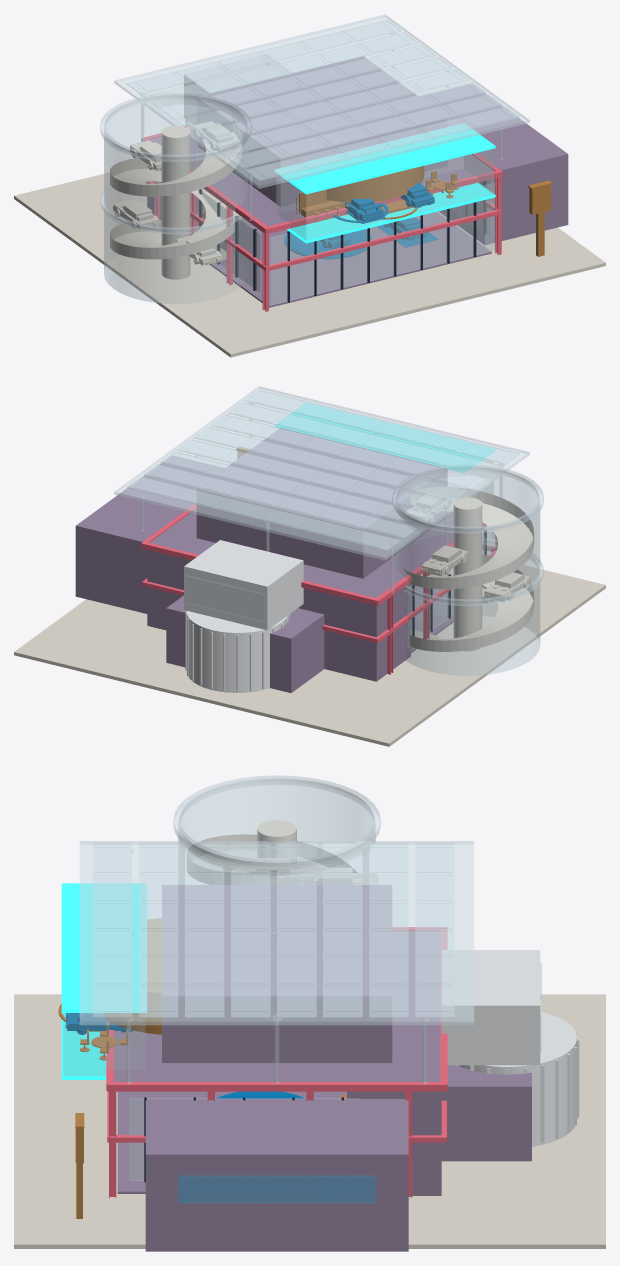
File: hq_14_marketing_l6.glb
3 renders of one model, top to bottom at view 1: azimuth 30°, elevation 25°; view 2: azimuth 150°, elevation 25°; view 3: azimuth 270°, elevation 25°, orthographic. The views are drawn at different scales.
Visible parts, largest first — view 1: GEO_Marketing_Photovoltaic_Solar_Canopy, GEO_Marketing_Glass_Rotunda_Cylinder, GEO_Marketing_Foundation_Plinth, GEO_Marketing_Auditorium_Shell, GEO_Marketing_Spiral_Display_Ramp, GEO_Marketing_Showroom_Brick_Halls, GEO_Marketing_Showroom_Glass_Curtain, GEO_Marketing_Heritage_Vault_Brick, GEO_Marketing_VIP_Delivery_Cube, GEO_Marketing_LED_Bands, GEO_Marketing_Structural_Columns, GEO_Marketing_Configurator_Studio_Shell (+7 smaller); view 2: GEO_Marketing_Photovoltaic_Solar_Canopy, GEO_Marketing_Glass_Rotunda_Cylinder, GEO_Marketing_Foundation_Plinth, GEO_Marketing_Auditorium_Shell, GEO_Marketing_Showroom_Brick_Halls, GEO_Marketing_Spiral_Display_Ramp, GEO_Marketing_Heritage_Vault_Brick, GEO_Marketing_Configurator_Studio_Shell, GEO_Marketing_LED_Bands, GEO_Marketing_HoloCinema_Pod, GEO_Marketing_Structural_Columns, GEO_Marketing_Configurator_Curtain_Glass (+1 smaller); view 3: GEO_Marketing_Photovoltaic_Solar_Canopy, GEO_Marketing_Foundation_Plinth, GEO_Marketing_Auditorium_Shell, GEO_Marketing_Heritage_Vault_Brick, GEO_Marketing_Showroom_Brick_Halls, GEO_Marketing_Glass_Rotunda_Cylinder, GEO_Marketing_LED_Bands, GEO_Marketing_Configurator_Studio_Shell, GEO_Marketing_Spiral_Display_Ramp, GEO_Marketing_Structural_Columns, GEO_Marketing_HoloCinema_Pod, GEO_Marketing_Vault_Ribbon_Glass (+6 smaller).
Boxes of the visible parts, x1=… form: GEO_Marketing_Photovoltaic_Solar_Canopy: x1=114, y1=14, x2=529, y2=220; GEO_Marketing_Glass_Rotunda_Cylinder: x1=100, y1=93, x2=251, y2=304; GEO_Marketing_Foundation_Plinth: x1=14, y1=172, x2=605, y2=357; GEO_Marketing_Auditorium_Shell: x1=197, y1=56, x2=447, y2=206; GEO_Marketing_Spiral_Display_Ramp: x1=110, y1=121, x2=241, y2=279; GEO_Marketing_Showroom_Brick_Halls: x1=147, y1=126, x2=493, y2=307; GEO_Marketing_Showroom_Glass_Curtain: x1=196, y1=179, x2=495, y2=305; GEO_Marketing_Heritage_Vault_Brick: x1=419, y1=84, x2=568, y2=244; GEO_Marketing_VIP_Delivery_Cube: x1=276, y1=149, x2=493, y2=240; GEO_Marketing_LED_Bands: x1=275, y1=123, x2=495, y2=243; GEO_Marketing_Structural_Columns: x1=141, y1=126, x2=502, y2=311; GEO_Marketing_Configurator_Studio_Shell: x1=184, y1=54, x2=292, y2=124; GEO_Marketing_Photovoltaic_Solar_Canopy: x1=114, y1=386, x2=529, y2=592; GEO_Marketing_Glass_Rotunda_Cylinder: x1=392, y1=464, x2=543, y2=675; GEO_Marketing_Foundation_Plinth: x1=14, y1=565, x2=605, y2=746; GEO_Marketing_Auditorium_Shell: x1=196, y1=428, x2=447, y2=578; GEO_Marketing_Showroom_Brick_Halls: x1=147, y1=508, x2=453, y2=692; GEO_Marketing_Spiral_Display_Ramp: x1=402, y1=487, x2=534, y2=651; GEO_Marketing_Heritage_Vault_Brick: x1=75, y1=455, x2=224, y2=613; GEO_Marketing_Configurator_Studio_Shell: x1=184, y1=540, x2=303, y2=630; GEO_Marketing_LED_Bands: x1=274, y1=403, x2=495, y2=486; GEO_Marketing_HoloCinema_Pod: x1=185, y1=611, x2=290, y2=692; GEO_Marketing_Structural_Columns: x1=141, y1=503, x2=497, y2=674; GEO_Marketing_Configurator_Curtain_Glass: x1=185, y1=575, x2=265, y2=621; GEO_Marketing_Photovoltaic_Solar_Canopy: x1=79, y1=841, x2=474, y2=1083; GEO_Marketing_Foundation_Plinth: x1=14, y1=994, x2=605, y2=1248; GEO_Marketing_Auditorium_Shell: x1=162, y1=885, x2=392, y2=1062; GEO_Marketing_Heritage_Vault_Brick: x1=145, y1=1099, x2=408, y2=1251; GEO_Marketing_Showroom_Brick_Halls: x1=114, y1=931, x2=531, y2=1195; GEO_Marketing_Glass_Rotunda_Cylinder: x1=173, y1=775, x2=380, y2=884; GEO_Marketing_LED_Bands: x1=61, y1=883, x2=146, y2=1079; GEO_Marketing_Configurator_Studio_Shell: x1=441, y1=950, x2=540, y2=1065; GEO_Marketing_Spiral_Display_Ramp: x1=187, y1=820, x2=377, y2=884; GEO_Marketing_Structural_Columns: x1=106, y1=927, x2=447, y2=1198; GEO_Marketing_HoloCinema_Pod: x1=456, y1=1012, x2=579, y2=1146; GEO_Marketing_Vault_Ribbon_Glass: x1=178, y1=1175, x2=375, y2=1202.
Size of what is drawn, in the model's own units: 39.4 by 13.93 by 36.
